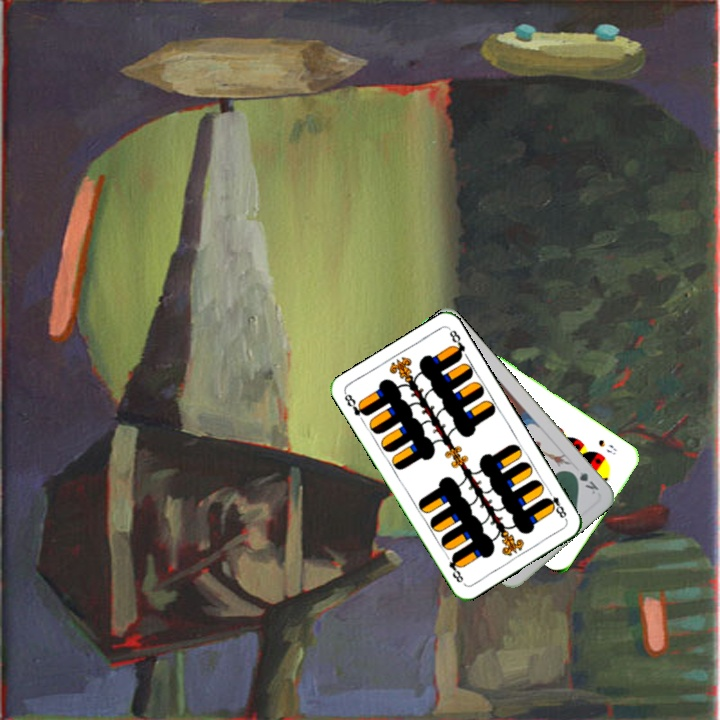E8: (541, 486, 569, 523), (340, 389, 371, 419)
GK: (567, 467, 602, 497)
S8: (594, 435, 620, 457)
